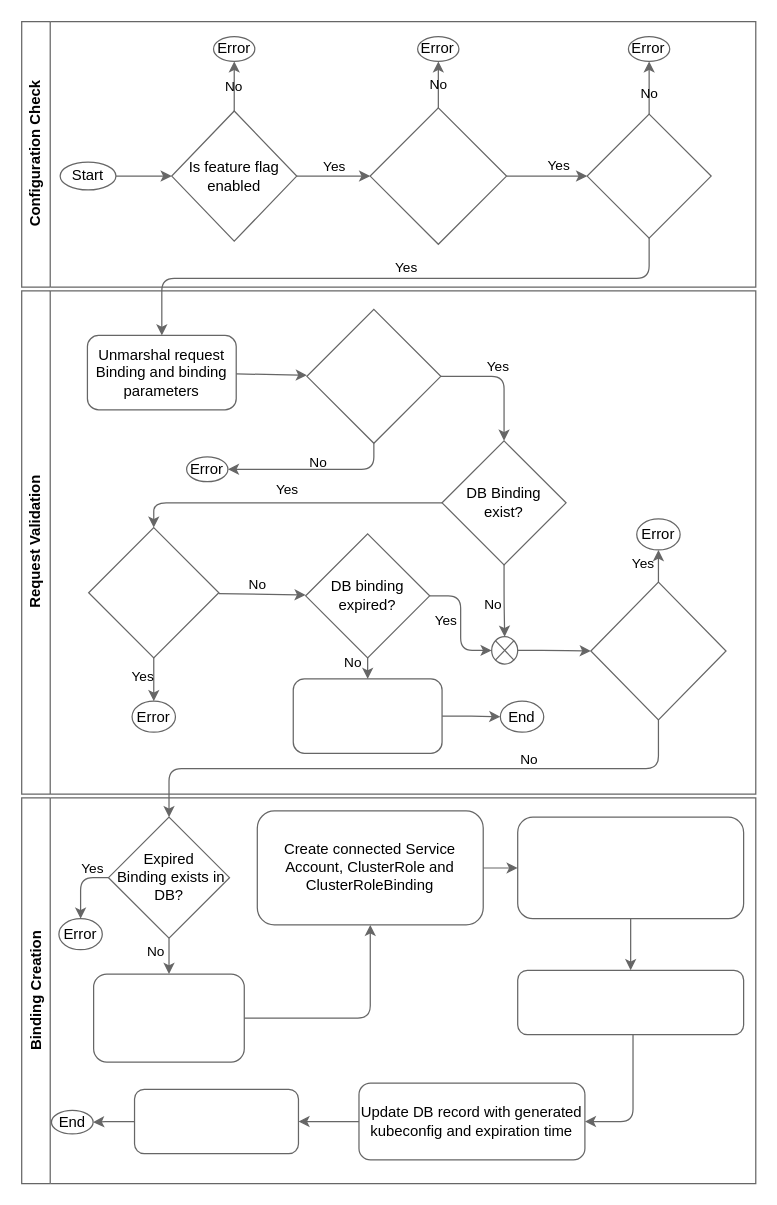
Some shapes in this 777 by 1205 pixel diagram are drawn without their labels. Here are the shapes that lost their labels. From the top down, the centre of each, then its label:
[438,175]: Instance exists?
[648,175]: Plan bindable?
[373,375]: Expiration in allowed min-max range?
[153,592]: DB Binding same params?
[658,650]: Non Expired Bindings Limit Exceeded
[367,715]: Return DB binding
[630,867]: Create Token Request
[168,1017]: Create DB Binding
[630,1002]: Build Kubeconfig with generated token
[215,1121]: Return created binding with generated Kubeconfig
